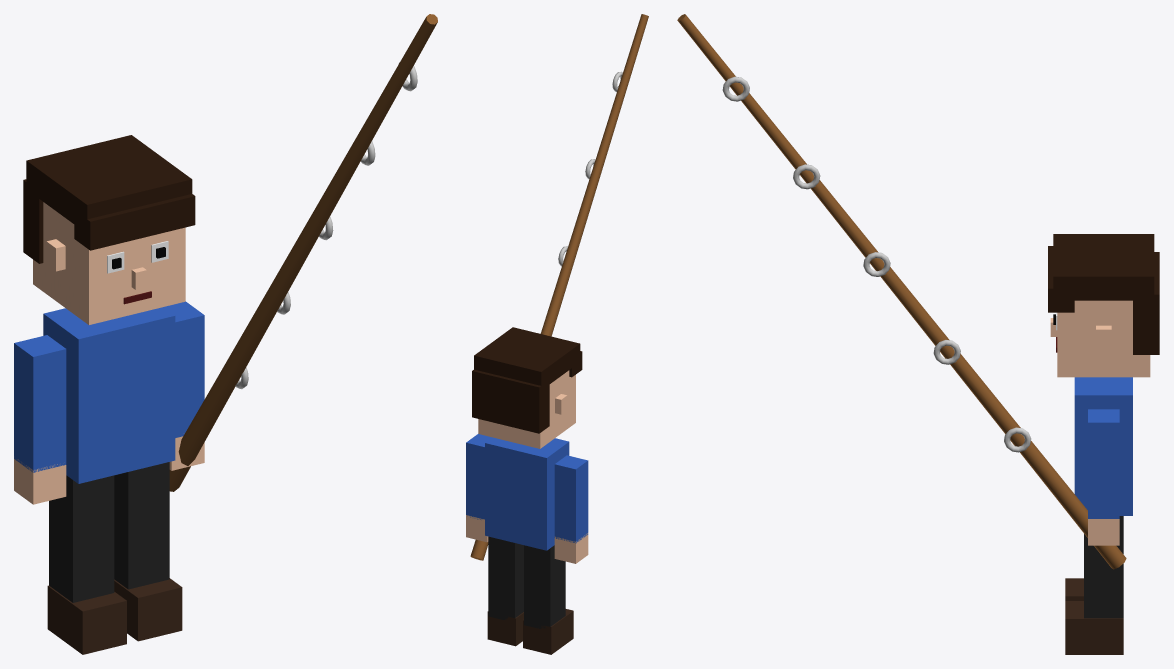
The model's file is miguel.glb.
3 renders of one model, left to right at view 1: azimuth 30°, elevation 25°; view 2: azimuth 150°, elevation 25°; view 3: azimuth 270°, elevation 25°, orthographic. The views are drawn at different scales.
Parts seen in each view (by area): view 1: miguel, legL, canaPescar, legR, armL, armR; view 2: miguel, legL, canaPescar, legR, armL, armR; view 3: miguel, canaPescar, legR, armR.
Boxes of the visible parts, <box> form: miguel: <box>23,135,195,483</box>; legL: <box>47,475,126,654</box>; canaPescar: <box>169,14,437,491</box>; legR: <box>114,462,182,641</box>; armL: <box>14,335,66,504</box>; armR: <box>164,301,204,470</box>; miguel: <box>472,327,582,550</box>; legL: <box>523,545,573,654</box>; canaPescar: <box>470,14,648,560</box>; legR: <box>487,536,523,646</box>; armL: <box>554,455,588,563</box>; armR: <box>466,434,491,542</box>; miguel: <box>1048,234,1159,515</box>; canaPescar: <box>677,14,1126,569</box>; legR: <box>1065,516,1123,654</box>; armR: <box>1088,409,1119,545</box>.
Bounding box in the file's own units: 0.62 × 2.69 × 1.81.
